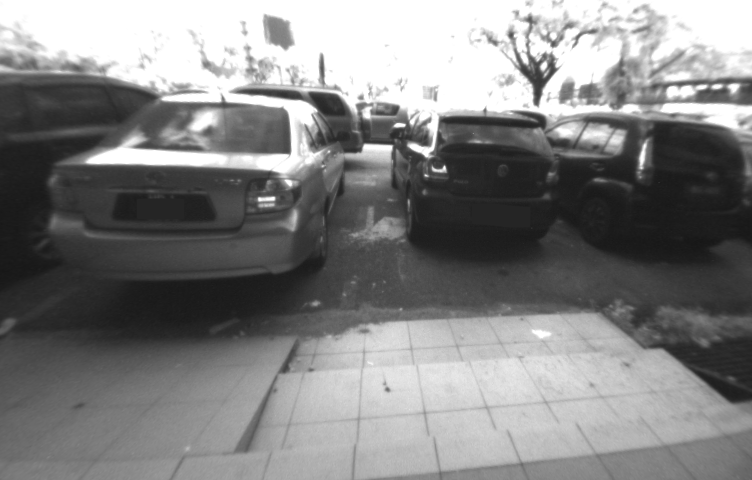down_steps: (236, 308, 736, 469)
mixed_gradient: (189, 326, 333, 480)
uncovered_drainage: (650, 323, 752, 423)
